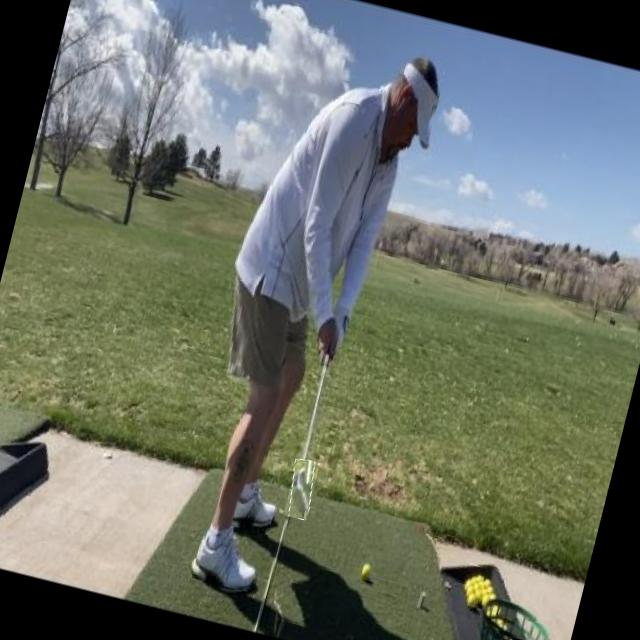club head: (283, 458, 319, 520)
